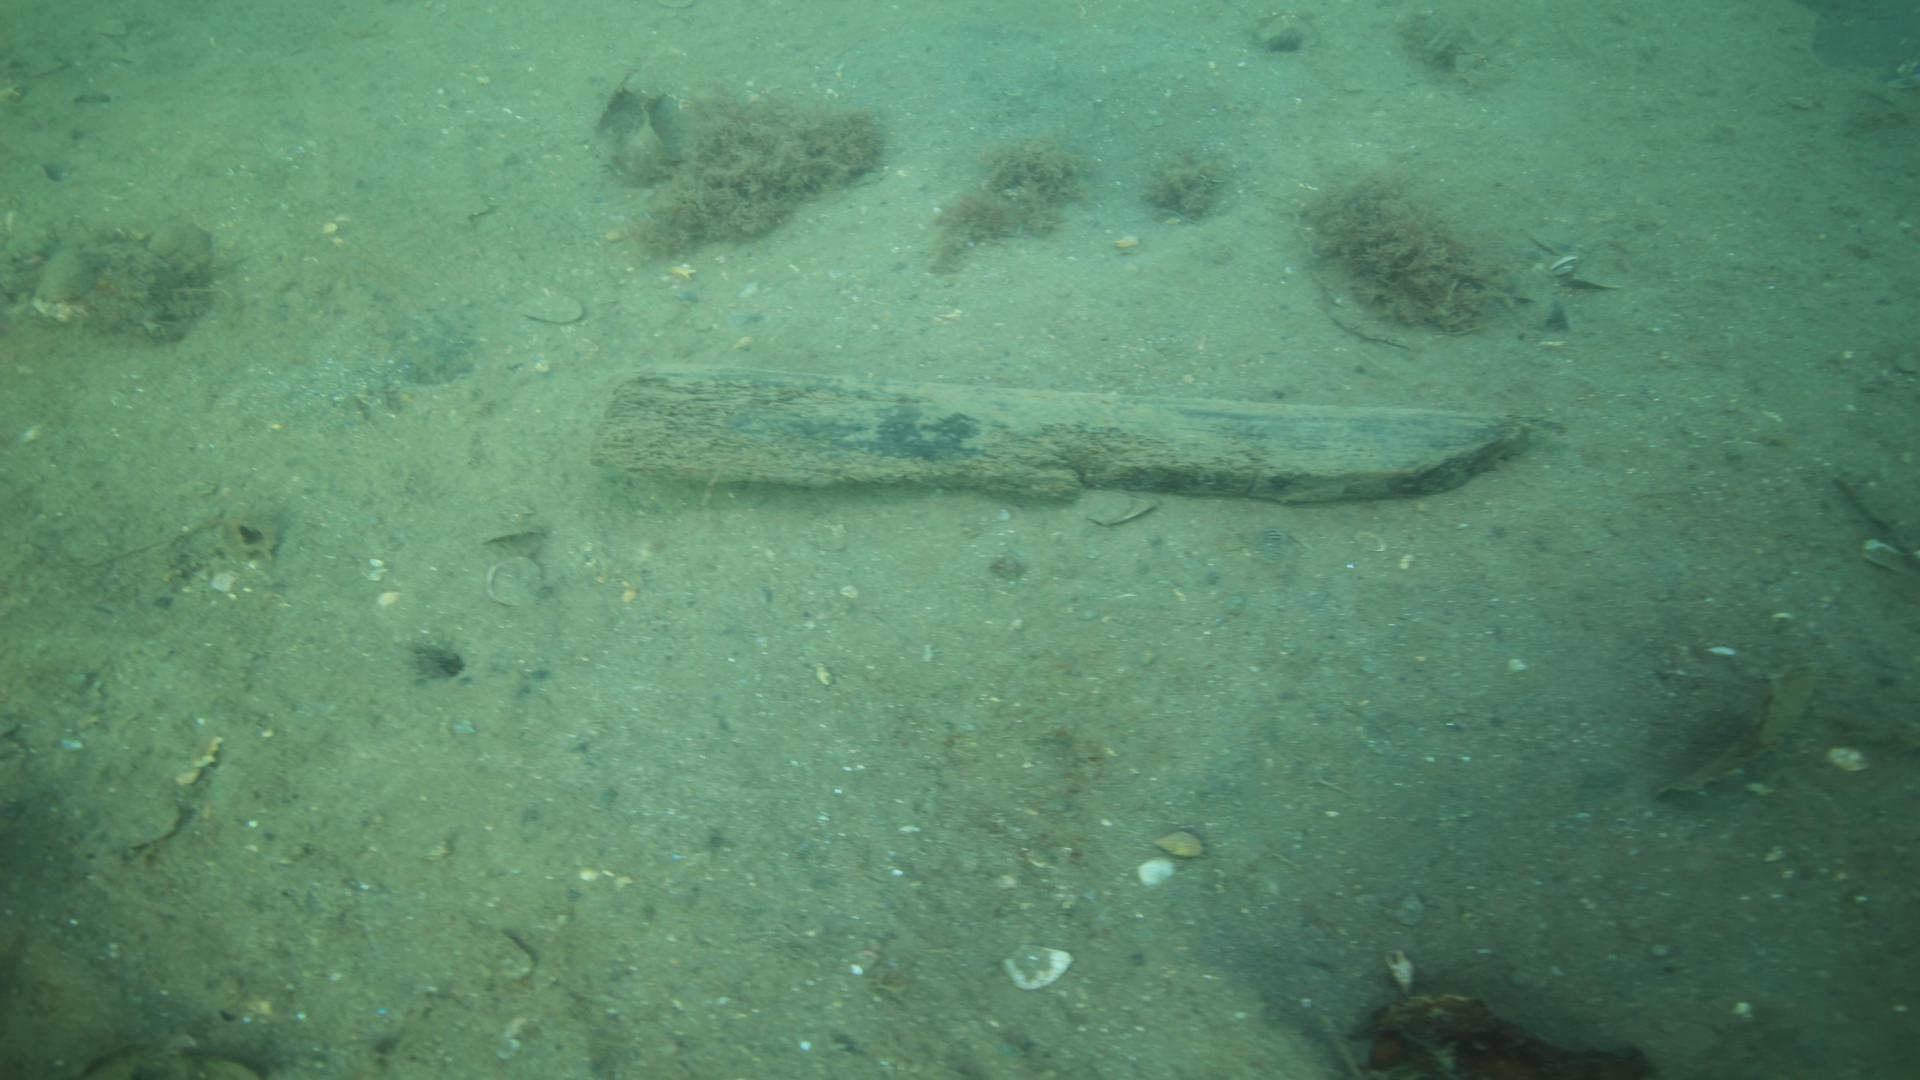wood: (584, 367, 1564, 504)
